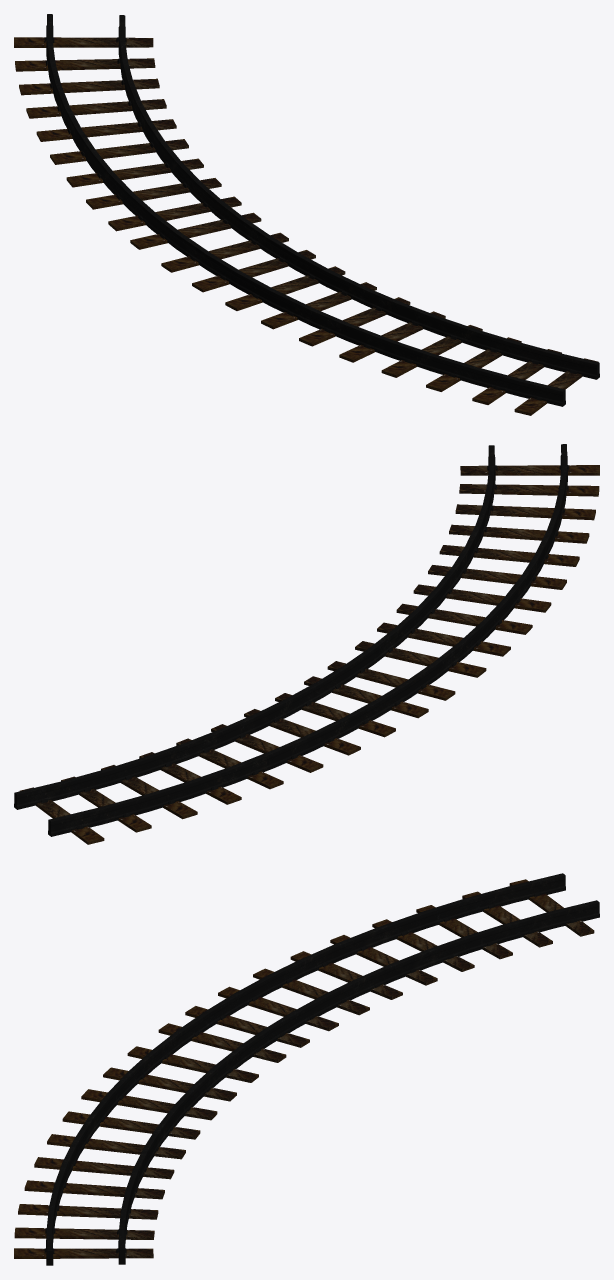
The model's file is track_slight.obj.
The picture shows the model from 3 angles, top to bottom: view 1: azimuth 30°, elevation 25°; view 2: azimuth 150°, elevation 25°; view 3: azimuth 330°, elevation 25°; orthographic projection.
Visible parts, largest first — view 1: Track_01polySurface161_lambert1_0.857, Track_01polySurface161_lambert1_0.1102, Track_01polySurface161_lambert1_0.1139, Track_01polySurface161_lambert1_0.1384, Track_01polySurface161_lambert1_0.860, Track_01polySurface161_lambert1_0.1141, Track_01polySurface161_lambert1_0.1105, Track_01polySurface161_lambert1_0.1386, Track_01polySurface161_lambert1_0.853, Track_01polySurface161_lambert1_0.1098, Track_01polySurface161_lambert1_0.1300, Track_01polySurface161_lambert1_0.1326 (+20 smaller); view 2: Track_01polySurface161_lambert1_0.1139, Track_01polySurface161_lambert1_0.1384, Track_01polySurface161_lambert1_0.857, Track_01polySurface161_lambert1_0.1102, Track_01polySurface161_lambert1_0.1141, Track_01polySurface161_lambert1_0.860, Track_01polySurface161_lambert1_0.1386, Track_01polySurface161_lambert1_0.1105, Track_01polySurface161_lambert1_0.1135, Track_01polySurface161_lambert1_0.1380, Track_01polySurface161_lambert1_0.1070, Track_01polySurface161_lambert1_0.1107 (+20 smaller); view 3: Track_01polySurface161_lambert1_0.1138, Track_01polySurface161_lambert1_0.1383, Track_01polySurface161_lambert1_0.856, Track_01polySurface161_lambert1_0.1141, Track_01polySurface161_lambert1_0.1101, Track_01polySurface161_lambert1_0.1386, Track_01polySurface161_lambert1_0.860, Track_01polySurface161_lambert1_0.1105, Track_01polySurface161_lambert1_0.1134, Track_01polySurface161_lambert1_0.1379, Track_01polySurface161_lambert1_0.1107, Track_01polySurface161_lambert1_0.1070 (+20 smaller).
Boxes of the visible parts, box(x1,y1,x2,y2) form: Track_01polySurface161_lambert1_0.857: box(176, 234, 562, 401); Track_01polySurface161_lambert1_0.1102: box(239, 219, 596, 374); Track_01polySurface161_lambert1_0.1139: box(46, 14, 176, 244); Track_01polySurface161_lambert1_0.1384: box(119, 15, 239, 228); Track_01polySurface161_lambert1_0.860: box(177, 233, 564, 390); Track_01polySurface161_lambert1_0.1141: box(47, 14, 180, 233); Track_01polySurface161_lambert1_0.1105: box(240, 217, 598, 363); Track_01polySurface161_lambert1_0.1386: box(119, 15, 243, 218); Track_01polySurface161_lambert1_0.853: box(176, 246, 562, 406); Track_01polySurface161_lambert1_0.1098: box(239, 231, 596, 379); Track_01polySurface161_lambert1_0.1300: box(15, 58, 154, 68); Track_01polySurface161_lambert1_0.1326: box(14, 37, 153, 45); Track_01polySurface161_lambert1_0.1139: box(51, 664, 437, 831); Track_01polySurface161_lambert1_0.1384: box(17, 649, 374, 804); Track_01polySurface161_lambert1_0.857: box(437, 444, 567, 674); Track_01polySurface161_lambert1_0.1102: box(374, 446, 494, 658); Track_01polySurface161_lambert1_0.1141: box(49, 663, 435, 821); Track_01polySurface161_lambert1_0.860: box(432, 444, 566, 663); Track_01polySurface161_lambert1_0.1386: box(15, 648, 373, 794); Track_01polySurface161_lambert1_0.1105: box(370, 445, 494, 648); Track_01polySurface161_lambert1_0.1135: box(51, 676, 437, 836); Track_01polySurface161_lambert1_0.1380: box(17, 661, 374, 809); Track_01polySurface161_lambert1_0.1070: box(459, 484, 599, 493); Track_01polySurface161_lambert1_0.1107: box(460, 465, 599, 472); Track_01polySurface161_lambert1_0.1138: box(181, 875, 565, 1041); Track_01polySurface161_lambert1_0.1383: box(244, 902, 599, 1057); Track_01polySurface161_lambert1_0.856: box(52, 1032, 181, 1250); Track_01polySurface161_lambert1_0.1141: box(178, 873, 564, 1031); Track_01polySurface161_lambert1_0.1101: box(124, 1047, 244, 1249); Track_01polySurface161_lambert1_0.1386: box(240, 900, 598, 1046); Track_01polySurface161_lambert1_0.860: box(47, 1030, 181, 1250); Track_01polySurface161_lambert1_0.1105: box(119, 1046, 243, 1249); Track_01polySurface161_lambert1_0.1134: box(182, 887, 565, 1046); Track_01polySurface161_lambert1_0.1379: box(245, 914, 599, 1061); Track_01polySurface161_lambert1_0.1107: box(14, 1248, 153, 1256); Track_01polySurface161_lambert1_0.1070: box(14, 1227, 154, 1237).
Bounding box in the file's own units: 75.27 × 5.12 × 296.
1 material, 1 textured.
